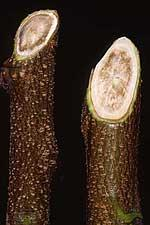Verticillium wilt: (100, 49, 130, 106)
